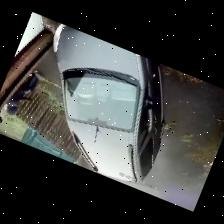person: (7, 69, 39, 114)
